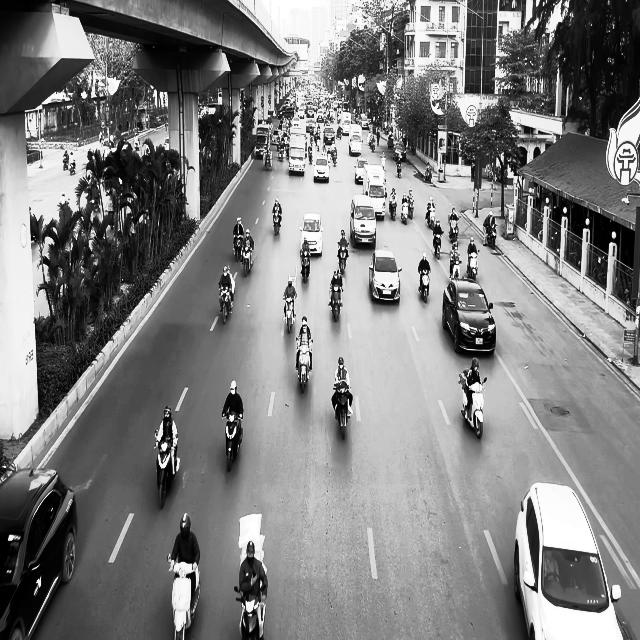car: (514, 482, 623, 639), (1, 466, 78, 639), (442, 278, 497, 354), (369, 249, 402, 302), (350, 194, 377, 248), (299, 212, 324, 256), (314, 155, 330, 183), (354, 157, 369, 184), (393, 141, 407, 161)
motorbike: (167, 554, 201, 639), (154, 430, 180, 509), (459, 372, 487, 439), (234, 584, 266, 640), (222, 410, 243, 472), (333, 382, 351, 439), (296, 337, 313, 392), (219, 285, 234, 324), (329, 281, 343, 322), (283, 293, 297, 333), (418, 267, 431, 302), (242, 240, 254, 276), (300, 245, 311, 282), (467, 250, 479, 280), (338, 244, 348, 274), (233, 234, 244, 261), (486, 223, 497, 249), (433, 231, 443, 259), (449, 218, 459, 245), (450, 258, 462, 280), (273, 210, 282, 235), (389, 197, 397, 220), (401, 201, 409, 224), (428, 206, 436, 229), (408, 199, 414, 219), (397, 158, 402, 178)
